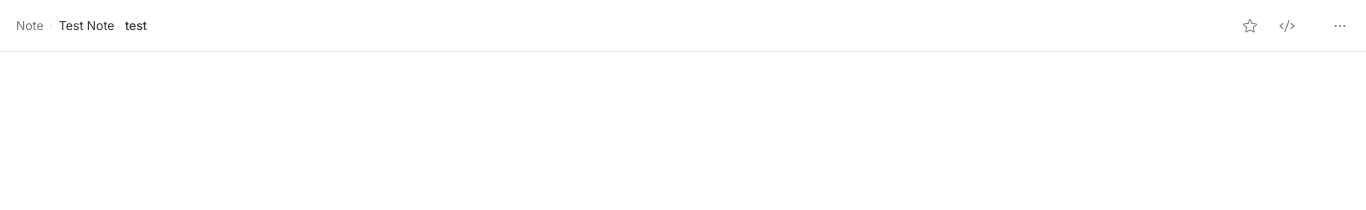
it: BreadcrumbBar — archive/unarchive › shows unarchive in the overflow menu for archived note
Press the mouse on the button named "More note actions": x=1340, y=26 1329,15 -> 1350,36
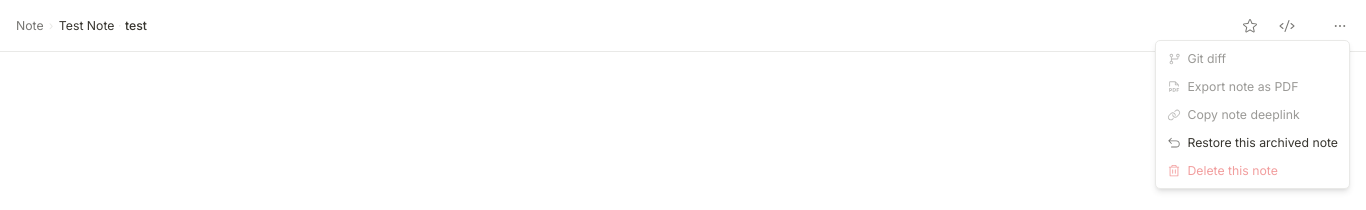
Check: the menu item "Restore this archived note" is shown, box 1166,135 -> 1338,150
